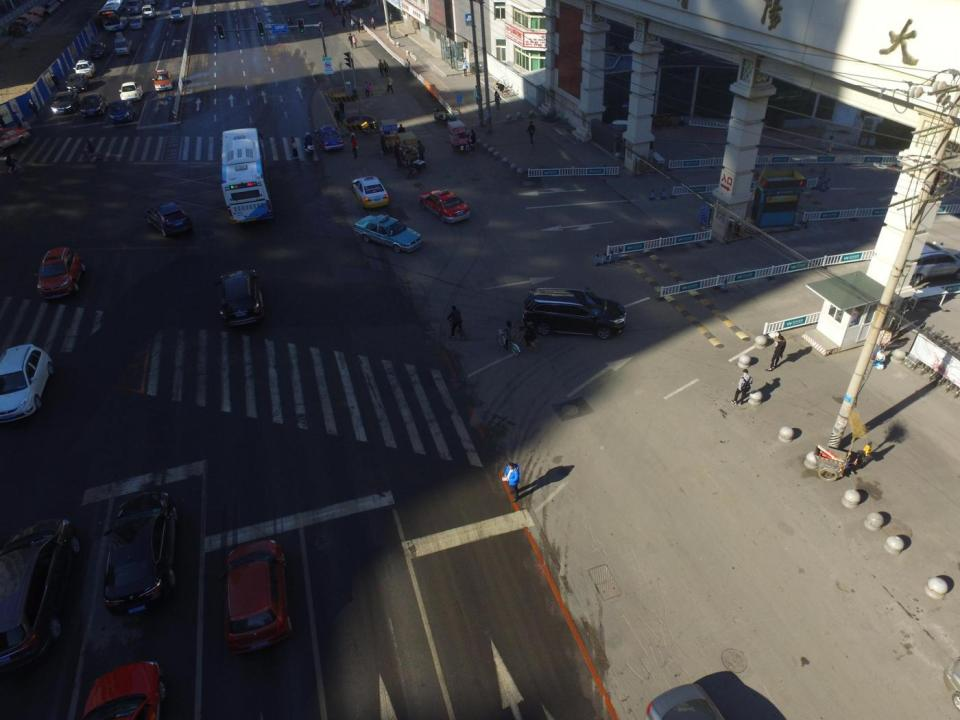bus: (217, 127, 273, 223), (97, 0, 129, 32)
car: (2, 517, 84, 661), (98, 494, 183, 615), (222, 538, 296, 652), (519, 285, 633, 338), (0, 342, 54, 426), (878, 233, 956, 286), (29, 241, 88, 299), (216, 267, 269, 326), (350, 215, 424, 255), (142, 199, 197, 240), (419, 186, 471, 223), (350, 171, 391, 212), (0, 130, 35, 154), (314, 126, 345, 152), (80, 92, 108, 120), (51, 90, 80, 113), (109, 100, 136, 124), (71, 59, 97, 79), (66, 72, 91, 92), (152, 69, 174, 91), (88, 42, 109, 60), (170, 5, 188, 23), (142, 3, 158, 20), (344, 0, 371, 9), (130, 15, 146, 30), (126, 0, 142, 15)
truck: (114, 35, 133, 55)
